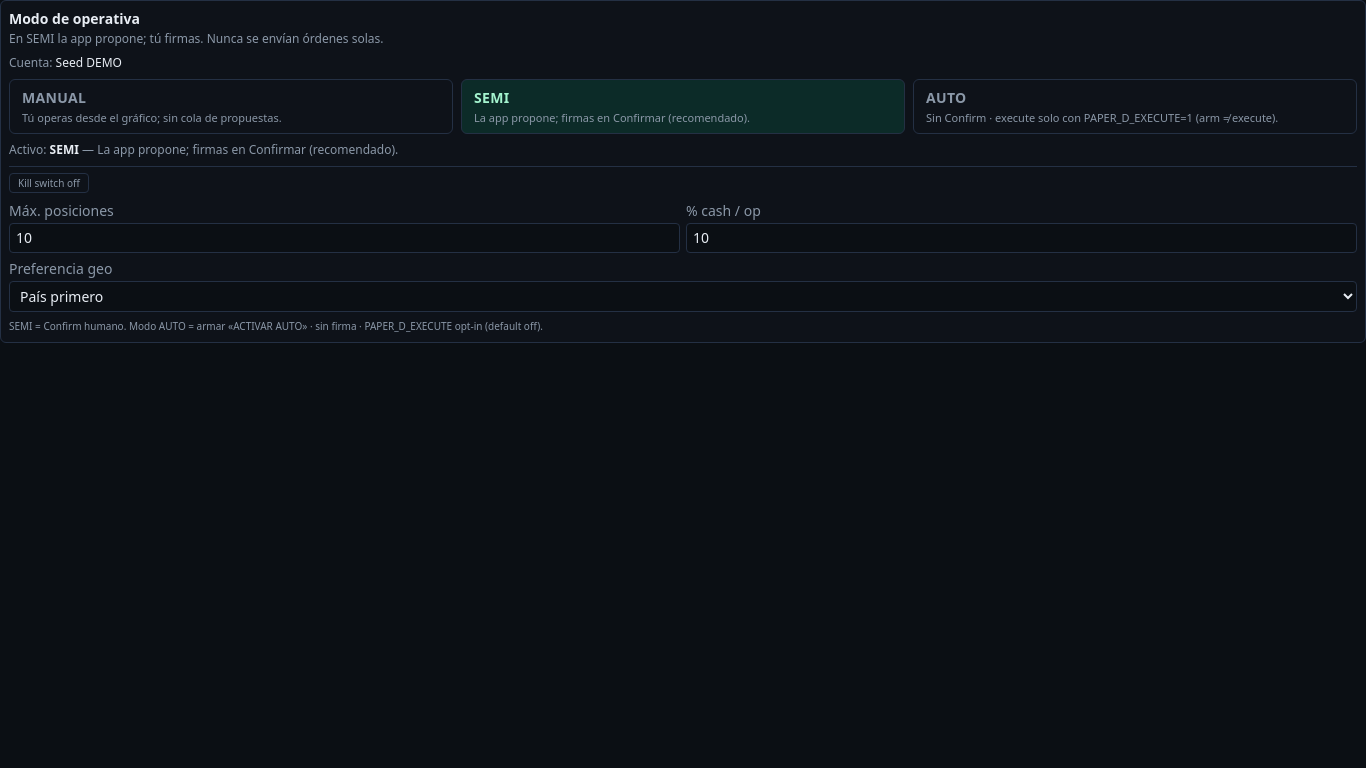
Test: DemoBookModePanel A3-wire › wrong phrase keeps semi; exact phrase sets auto
Click the button with test id "demo-book-auto-pill". click: (946, 98)
box: [913,79,1357,134]
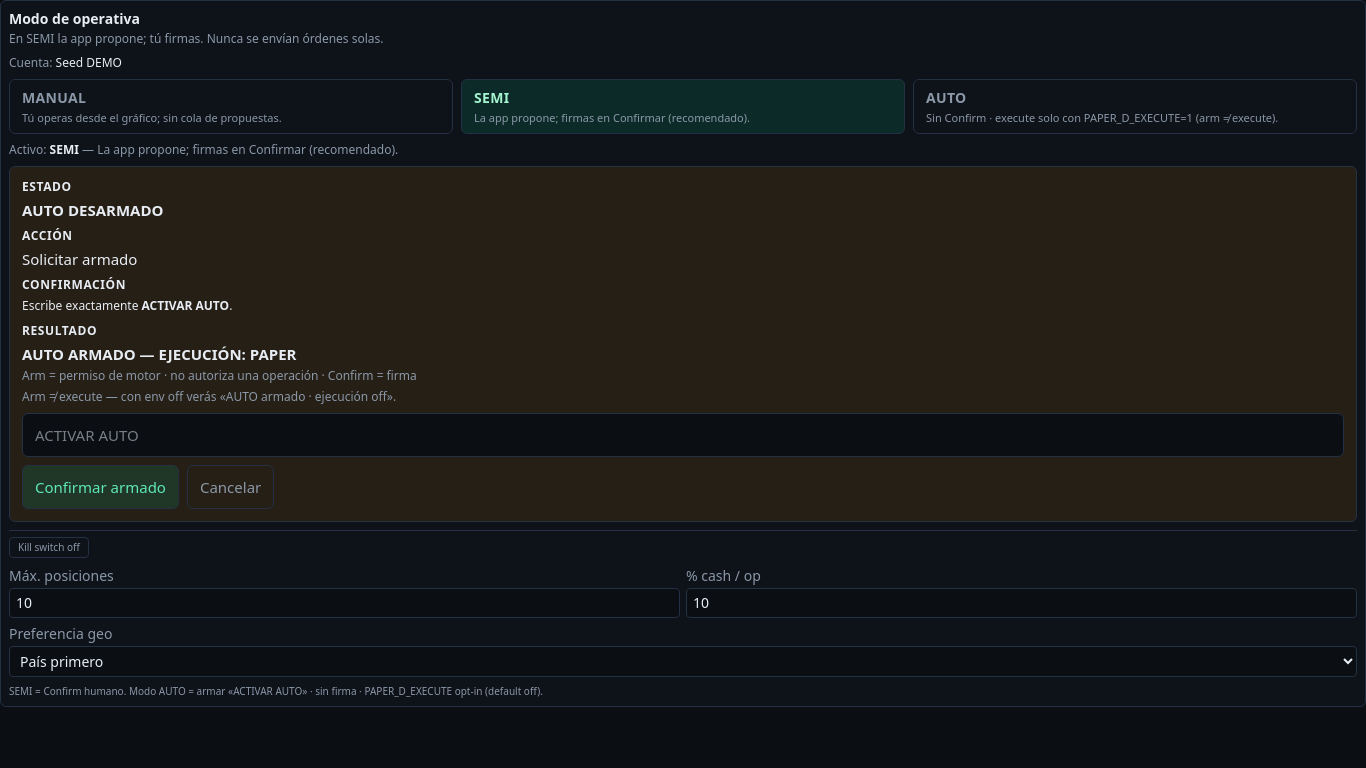
Type "activar auto" into the field with test id "demo-book-auto-arm-phrase". click: (683, 436)
box: [22,414,1344,458]
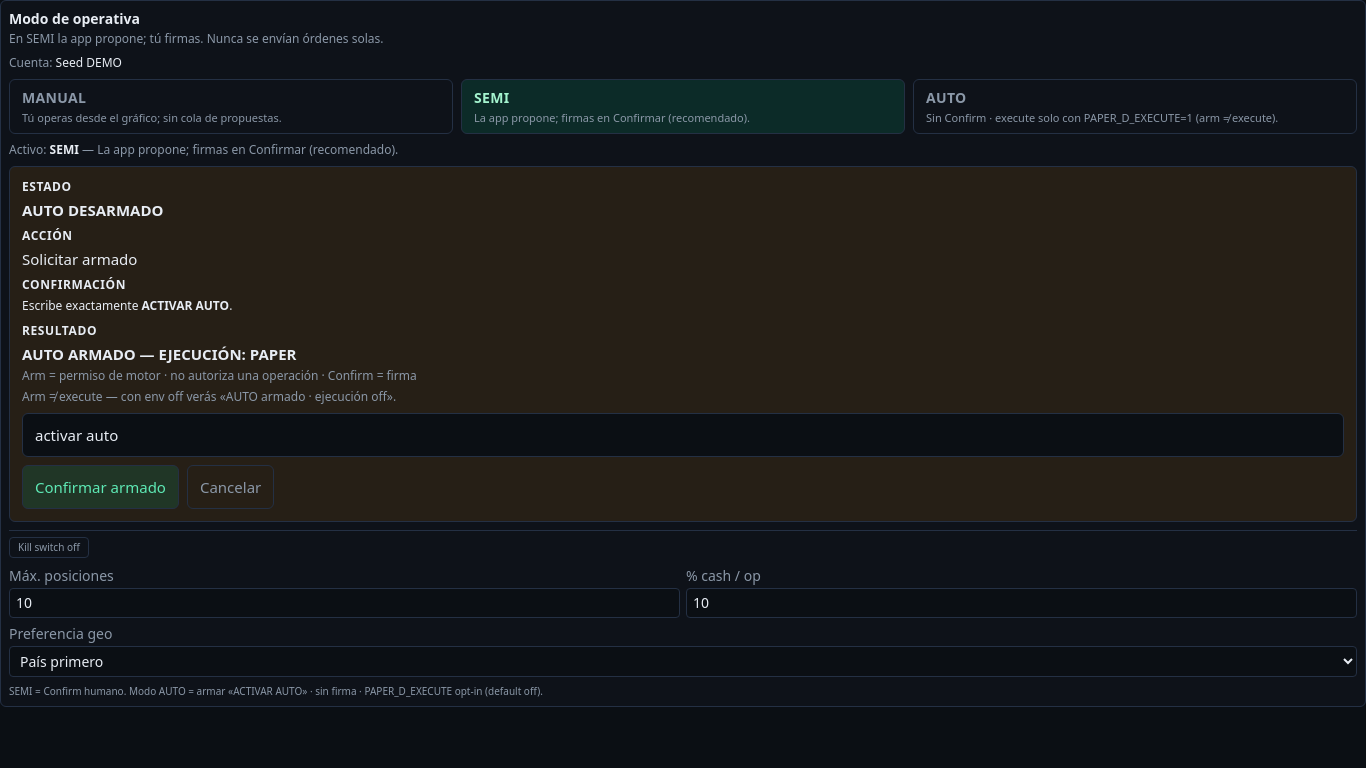
Click the button with test id "demo-book-auto-arm-confirm". click: (100, 488)
box: [22,466,179,510]
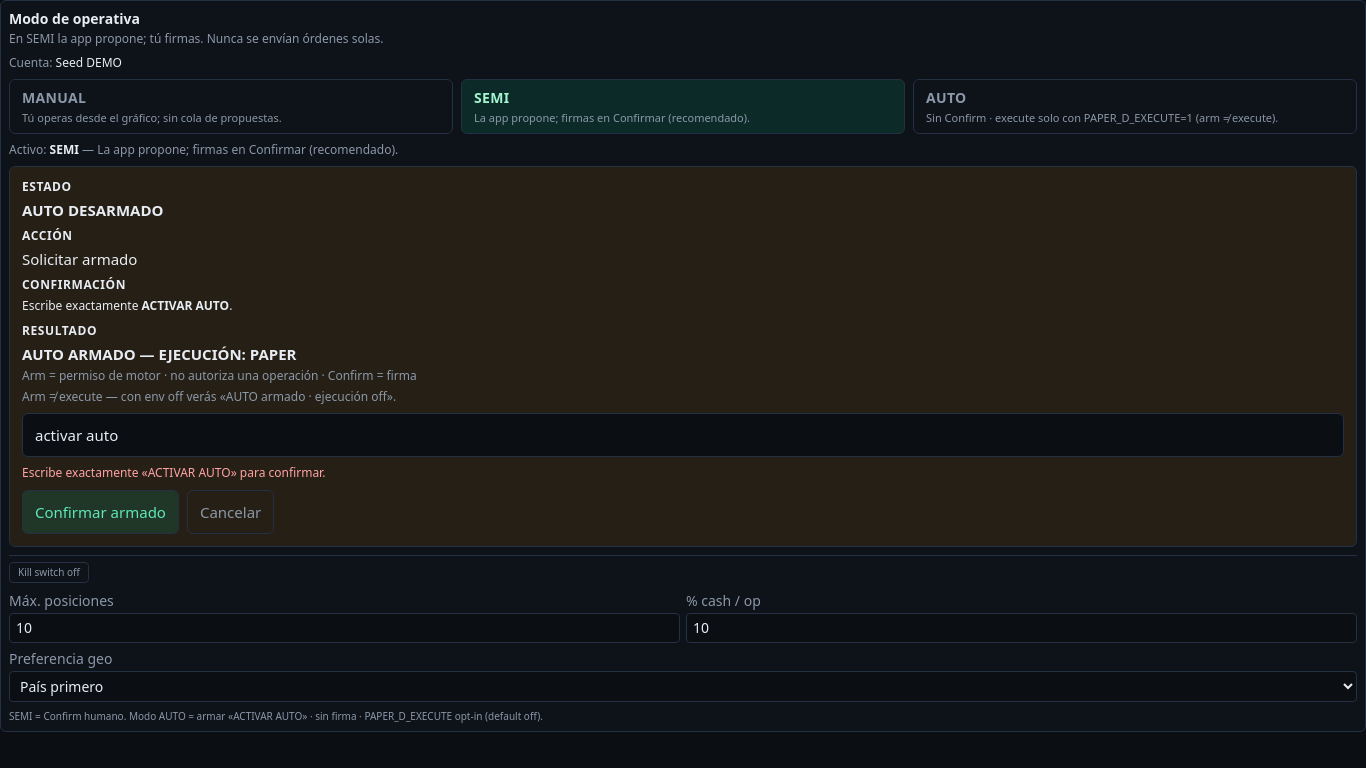
Expected: the text "Escribe exactamente «ACTIVAR AUTO» para confirmar." is shown, [22,464,325,482]
Replace the text in the field with test id "demo-book-auto-arm-phrase" with "ACTIVAR AUTO". click: (683, 436)
box: [22,414,1344,458]
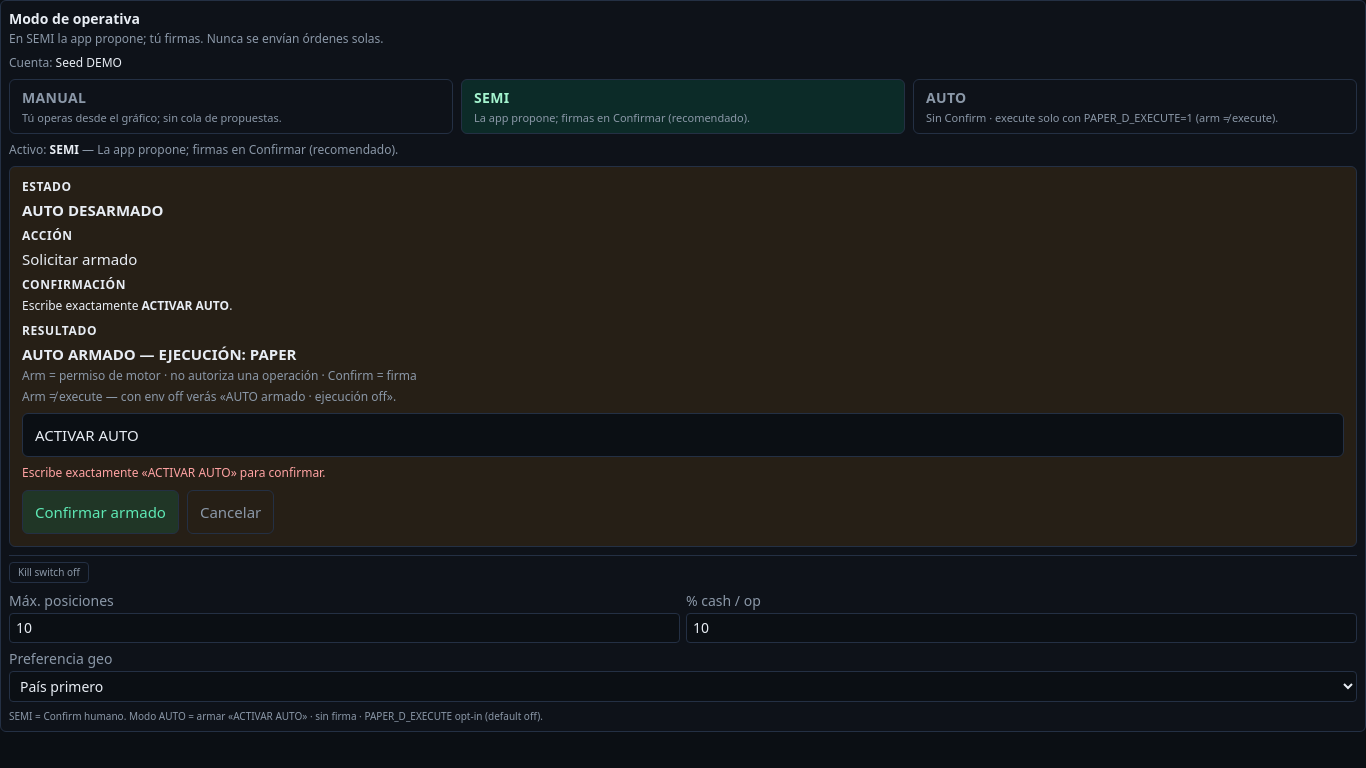
Click the button with test id "demo-book-auto-arm-confirm". click: (100, 512)
box: [22,490,179,534]
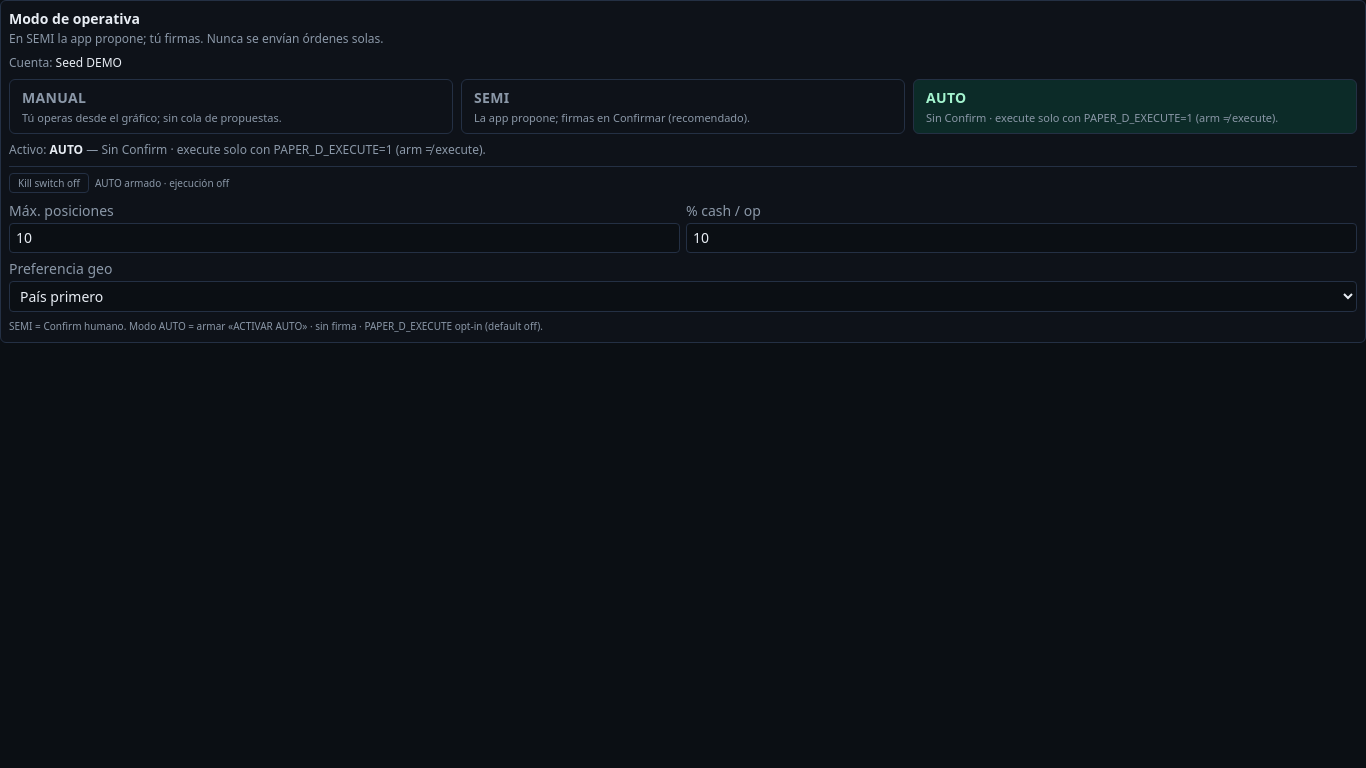
Expected: the element with test id "demo-book-auto-arm-form" is gone
